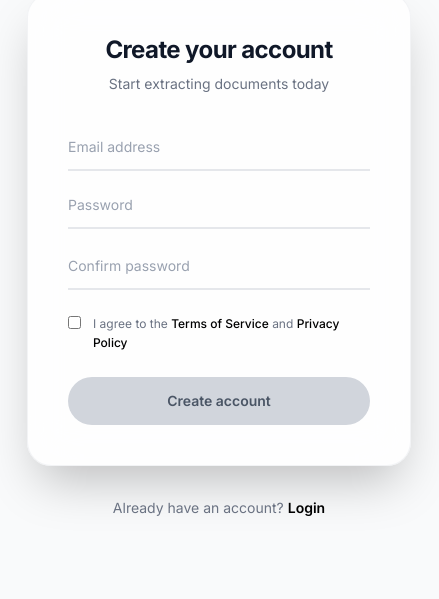
Test: signup page › shows password policy errors and a live strength meter
In the password field labelled "Password": [219, 212] box top-left (68, 194), bottom-right (370, 228), type "short"
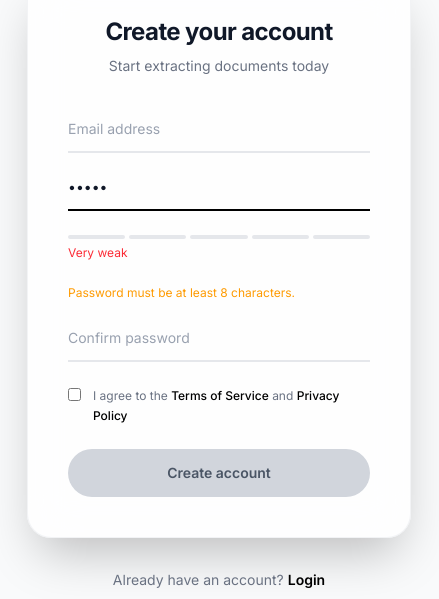
Result: the text "Password must be at least 8 characters." is shown at top-left (68, 285), bottom-right (295, 300)
Result: the text "Very weak" is shown at top-left (67, 244), bottom-right (176, 260)
In the password field named "Password": [219, 194] box top-left (68, 177), bottom-right (370, 211), type "abcdefghijK1!"
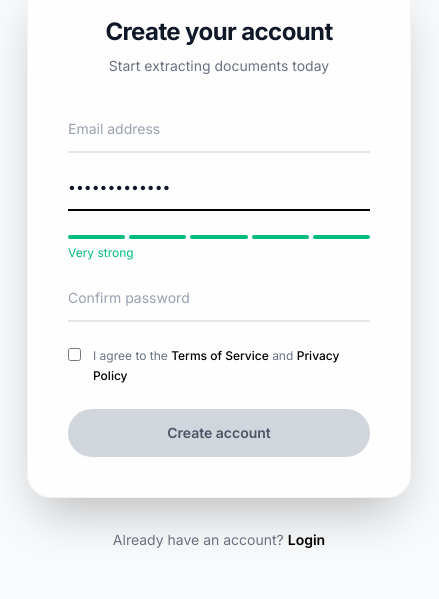
Result: the text "Very strong" is shown at top-left (67, 244), bottom-right (176, 260)
Result: the text "Password must" is gone
